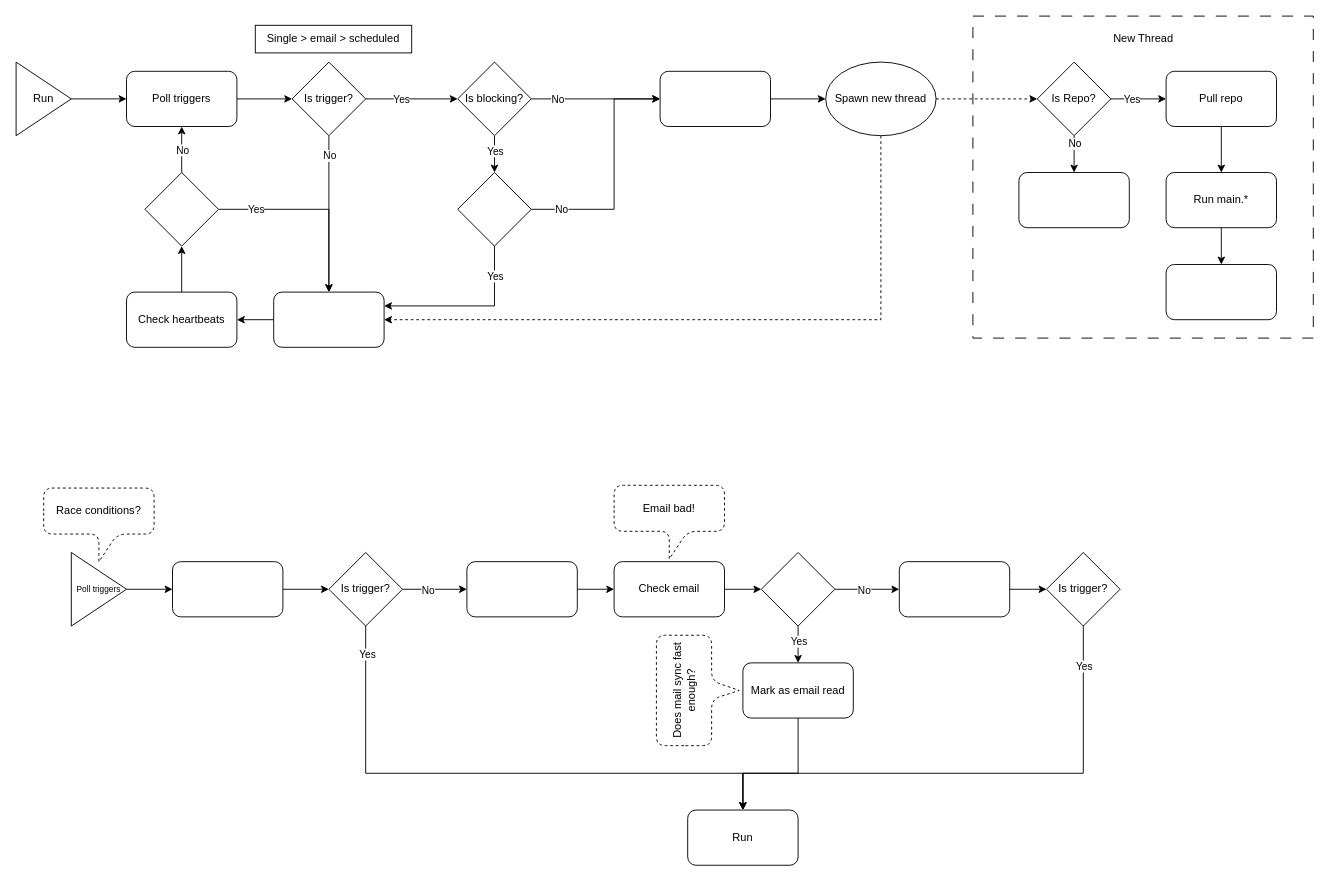
The diagram is 1329 pixels wide and 881 high, and some of its shapes have lost their labels. Each missing label, with the centre of its shape:
"Delete Repo" belongs at [1220,292].
"Is blocking process running?" belongs at [181,209].
"Is new email?" belongs at [797,589].
"Is other process running?" belongs at [494,209].
"Mark trigger as running" belongs at [714,98].
"Poll email triggers" belongs at [521,589].
"Poll scheduled trigger" belongs at [954,589].
"Poll single triggers" belongs at [227,589].
"Run file at path" belongs at [1073,200].
"Sleep" belongs at [328,319].
